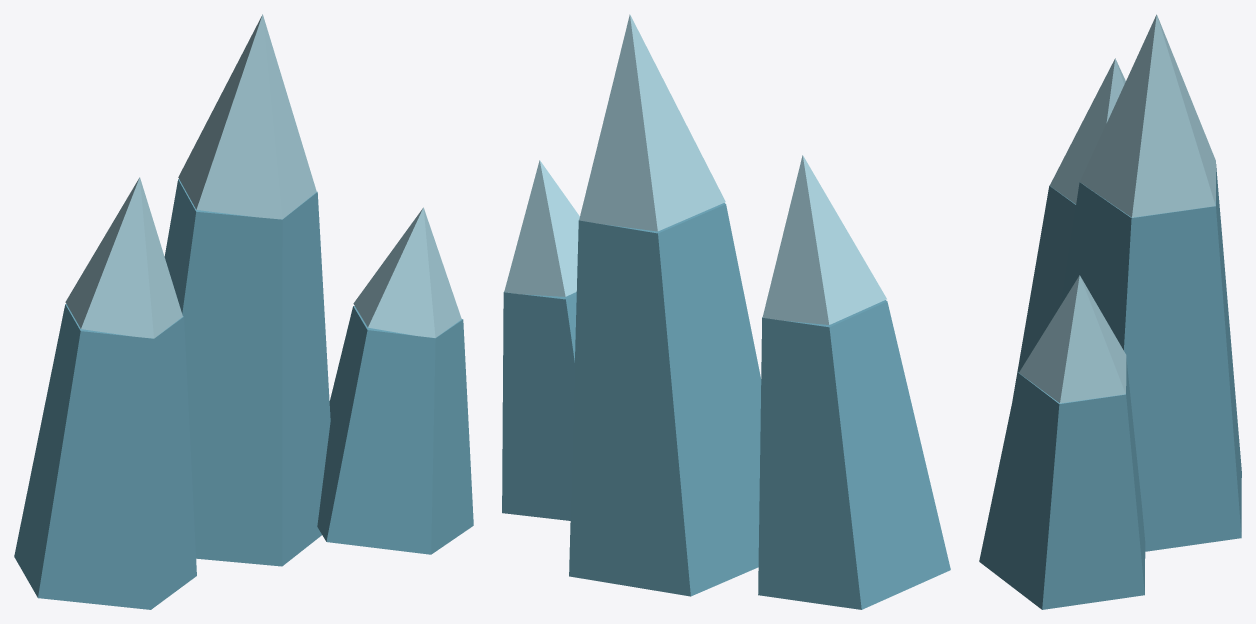
Rendered from ice-spires.glb.
3 views of the same model, side by side, from view 1: azimuth 30°, elevation 25°; view 2: azimuth 150°, elevation 25°; view 3: azimuth 270°, elevation 25° (orthographic). The views are drawn at different scales.
Parts seen in each view (by area): view 1: ice-spires; view 2: ice-spires; view 3: ice-spires.
Part boxes in pixels (<box>): ice-spires: <box>14,14,473,609</box>; ice-spires: <box>502,14,950,609</box>; ice-spires: <box>979,14,1241,609</box>.
Size of the model in its own units: 8.34 by 9.67 by 4.44.
